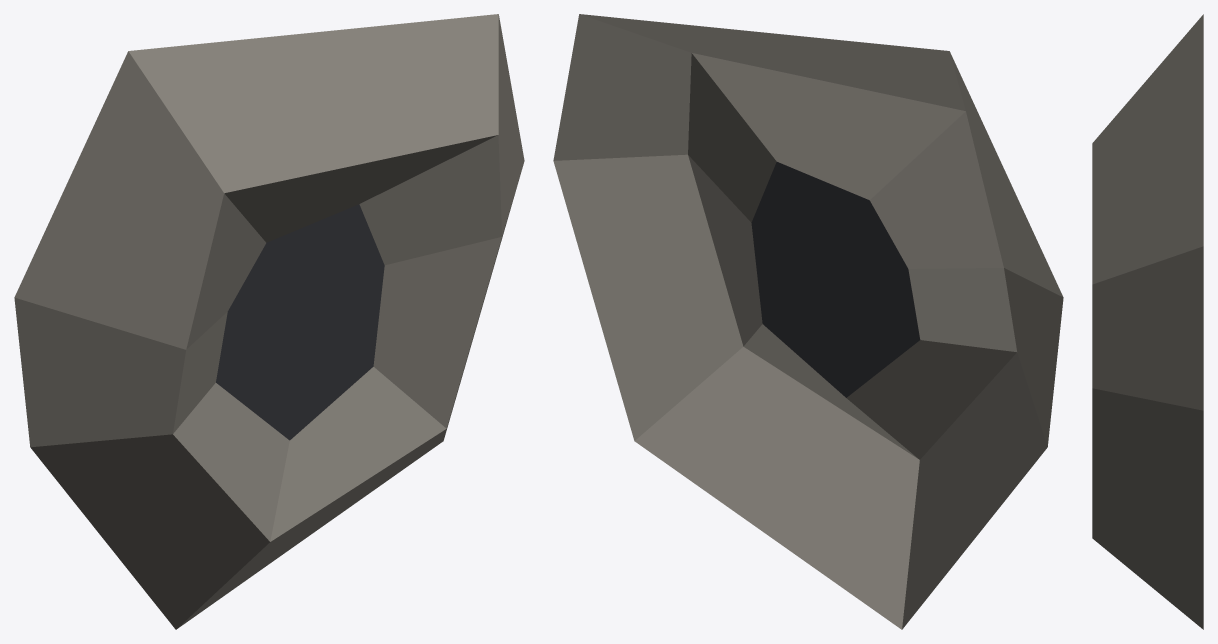
The model's file is SM_Bullet_Hole_B.gltf.
3 views of the same model, side by side, from view 1: azimuth 30°, elevation 25°; view 2: azimuth 150°, elevation 25°; view 3: azimuth 270°, elevation 25° (orthographic).
Visible parts, largest first — view 1: SM_Bullet_Hole_B; view 2: SM_Bullet_Hole_B; view 3: SM_Bullet_Hole_B.
Part boxes in pixels (left/top/right/bottom): SM_Bullet_Hole_B: left=14, top=14, right=524, bottom=629; SM_Bullet_Hole_B: left=553, top=14, right=1063, bottom=629; SM_Bullet_Hole_B: left=1092, top=14, right=1203, bottom=629.
Bounding box in the file's own units: 0.2533 × 0.2801 × 0.0482.
Materials: 1 (1 with a texture image).
